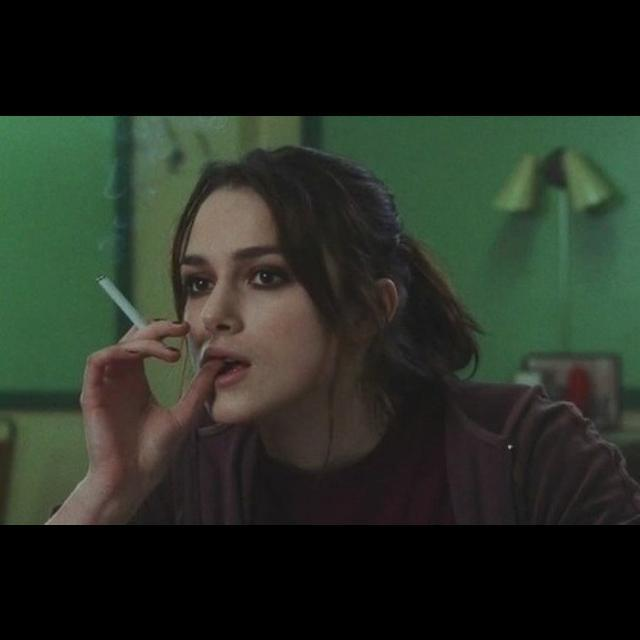rokok: (92, 270, 156, 328)
